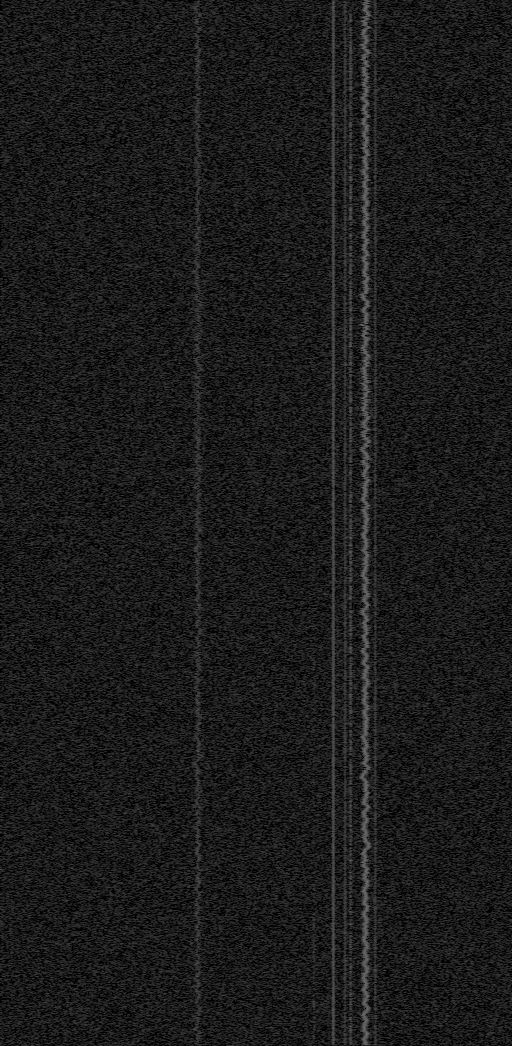wv_cw: (373, 0, 378, 1045), (331, 0, 336, 1045), (343, 0, 347, 1045)
wv_lsb: (336, 681, 340, 804), (336, 628, 340, 667), (335, 121, 340, 150), (336, 988, 339, 1029), (336, 971, 339, 987), (336, 668, 340, 680), (336, 151, 340, 163), (336, 1032, 339, 1045), (336, 491, 339, 501), (336, 479, 339, 489), (336, 455, 339, 465), (336, 503, 339, 512), (336, 468, 339, 477), (336, 935, 339, 941), (336, 621, 339, 627), (336, 447, 339, 453), (336, 183, 339, 187), (336, 164, 340, 167)
wv_usb: (348, 71, 353, 728), (348, 834, 353, 954), (348, 955, 353, 1045), (348, 729, 353, 797), (312, 909, 316, 987), (348, 10, 353, 70), (312, 547, 316, 604), (312, 992, 316, 1045), (312, 44, 316, 93), (312, 718, 316, 764), (348, 798, 353, 833), (312, 372, 316, 410), (312, 674, 316, 709), (312, 641, 316, 671), (312, 316, 316, 345), (312, 266, 316, 293), (312, 882, 316, 907), (312, 855, 316, 878), (312, 774, 316, 797), (312, 102, 316, 124), (312, 503, 316, 524), (312, 150, 316, 171), (312, 526, 316, 545), (312, 829, 316, 848), (312, 240, 316, 258), (312, 125, 316, 142), (312, 223, 316, 239), (312, 618, 316, 632), (312, 298, 316, 312), (312, 799, 316, 813), (312, 451, 316, 464), (312, 437, 316, 450), (312, 421, 316, 434), (312, 26, 316, 39), (312, 489, 316, 501), (312, 469, 316, 480), (312, 351, 316, 362), (312, 203, 316, 214), (312, 817, 316, 828), (312, 191, 316, 200), (312, 178, 316, 186), (312, 364, 316, 371), (312, 94, 316, 101), (312, 143, 316, 149), (312, 710, 315, 717), (312, 415, 316, 420), (312, 13, 316, 18), (312, 21, 316, 25), (312, 633, 316, 636)
wv_wbfm: (357, 0, 374, 1045), (190, 280, 205, 1045), (190, 0, 205, 280)
